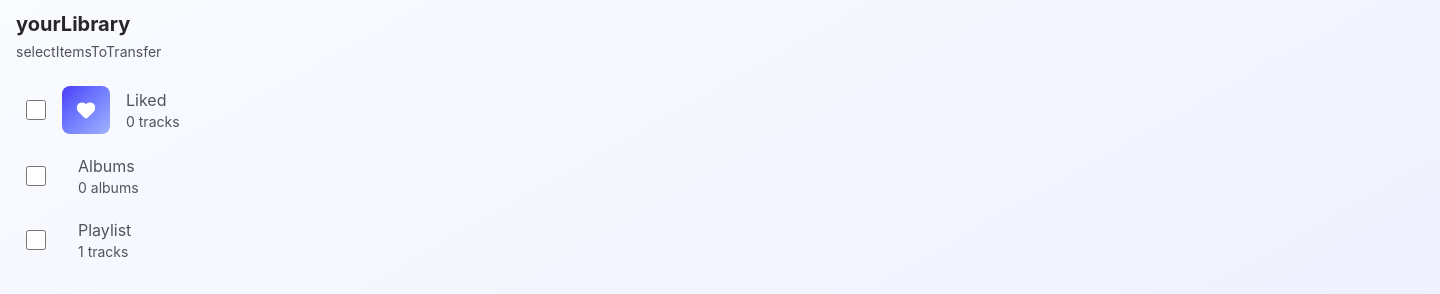
Test: playlist selection failures › keeps the library usable when failure arrives after deselection: true
Click the checkbox with test id "playlist-checkbox-p" at (36, 240), box [26,230,46,250]
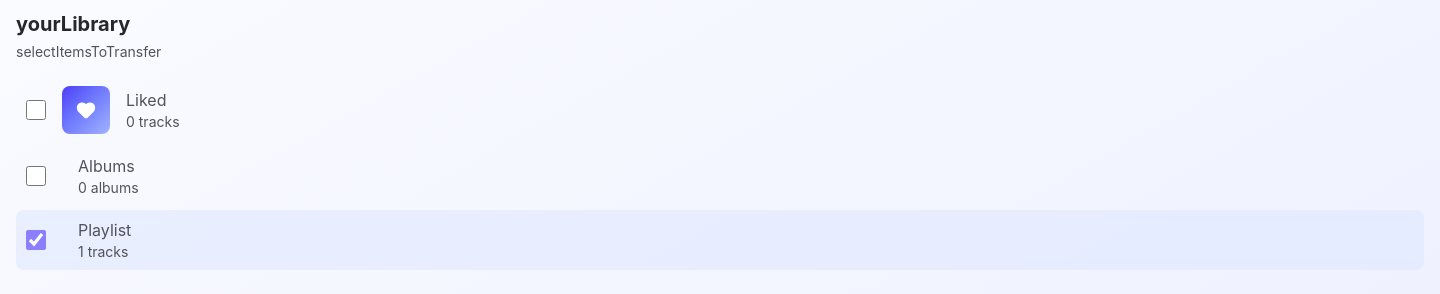
Click the checkbox with test id "playlist-checkbox-p" at (36, 240), box [26,230,46,250]
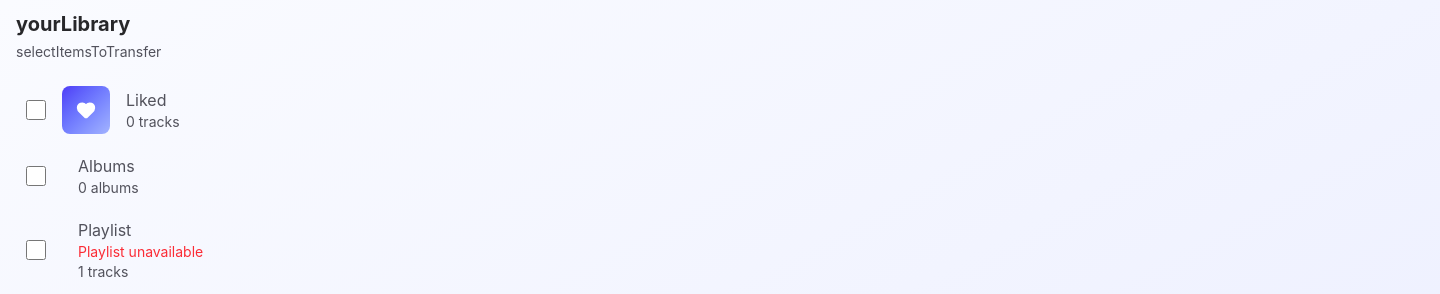
Expected: the button with test id "liked-songs-section" is shown, [16,78,1424,142]
Expected: the message reads "Playlist unavailable", [78,243,203,260]
Click the checkbox with test id "playlist-checkbox-p" at (36, 250), box [26,240,46,260]
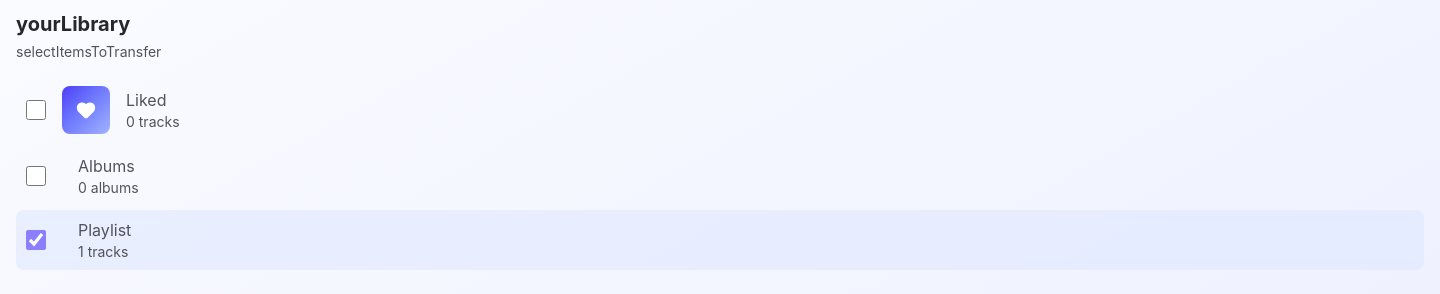
Expected: the message "Playlist unavailable" is gone
